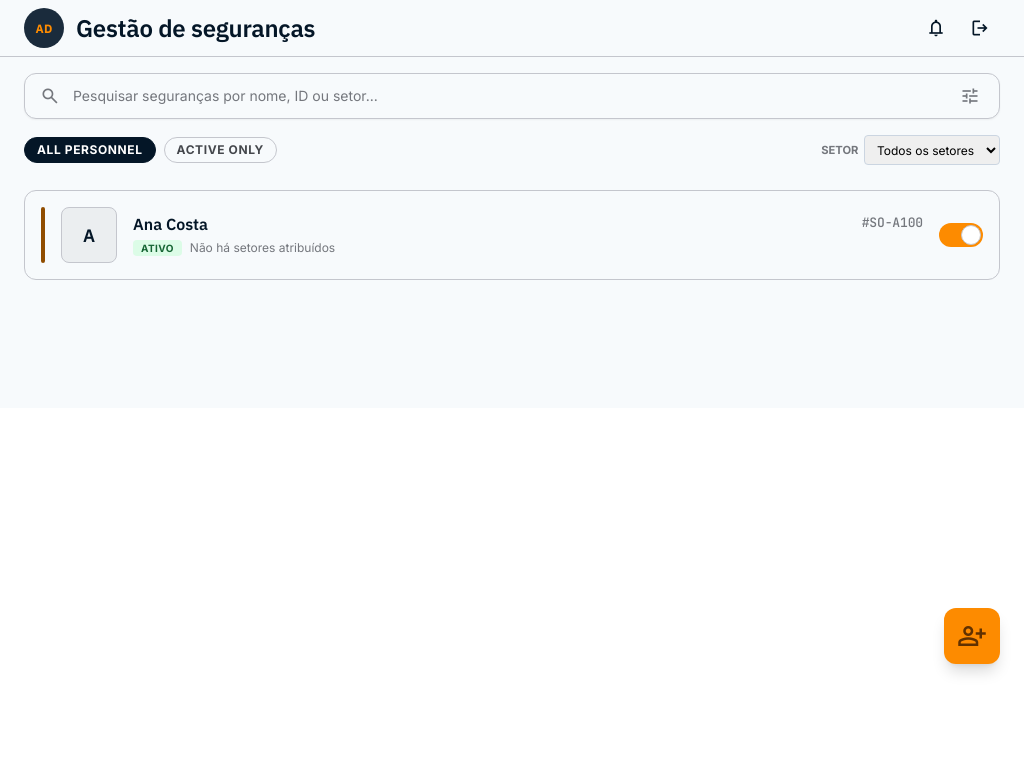
Scenario: SecurityGuardsPage › validates mandatory name before create submit
Expected: the button "Ana Costa" is shown, [133,214,208,236]
Click the button named "adicionar segurança" at (972, 636), box [944,608,1000,664]
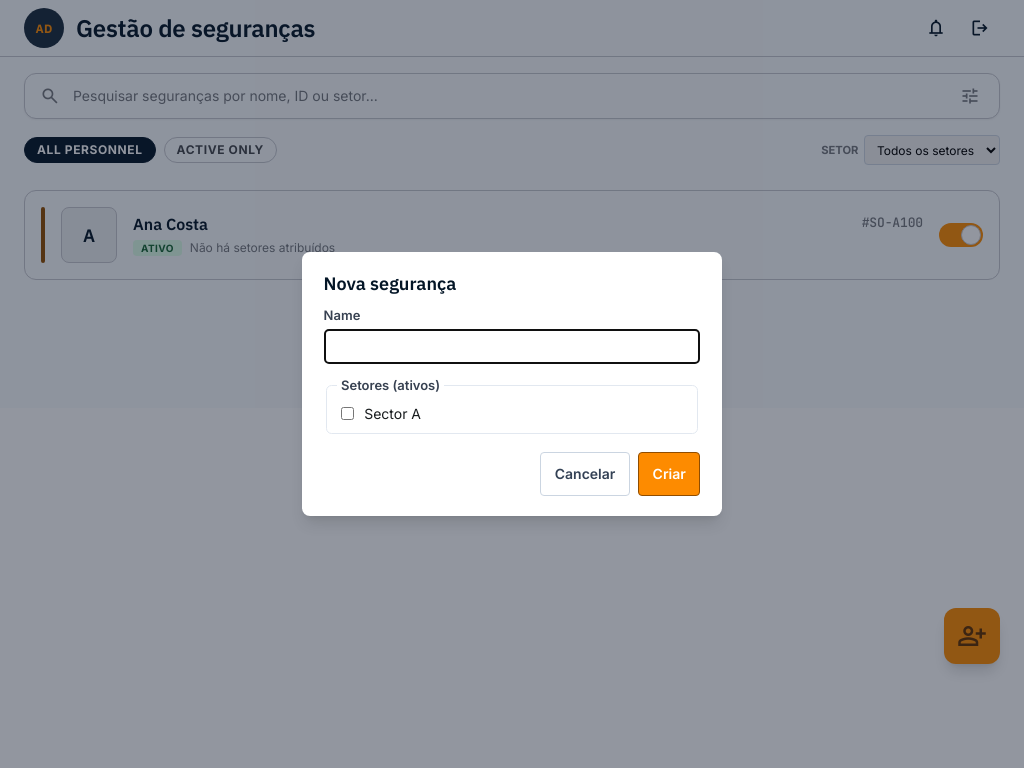
Click the button "Criar" at (669, 474), box [638,452,700,496]
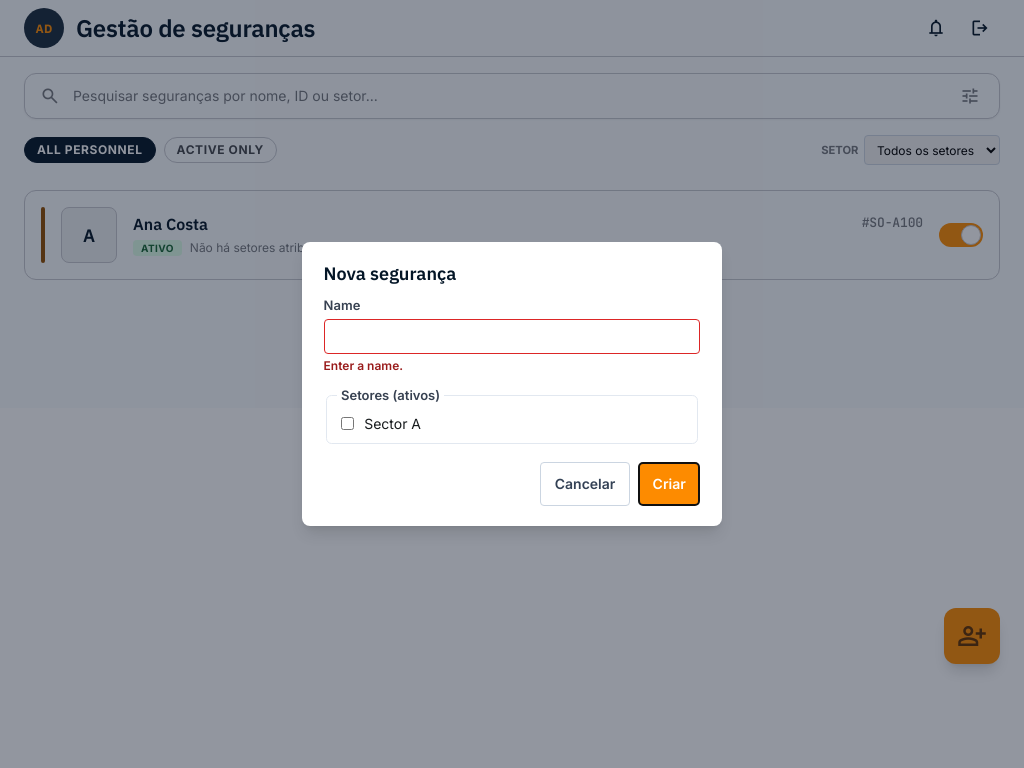
Expected: the text "Enter a name." is shown, [324,358,403,373]
